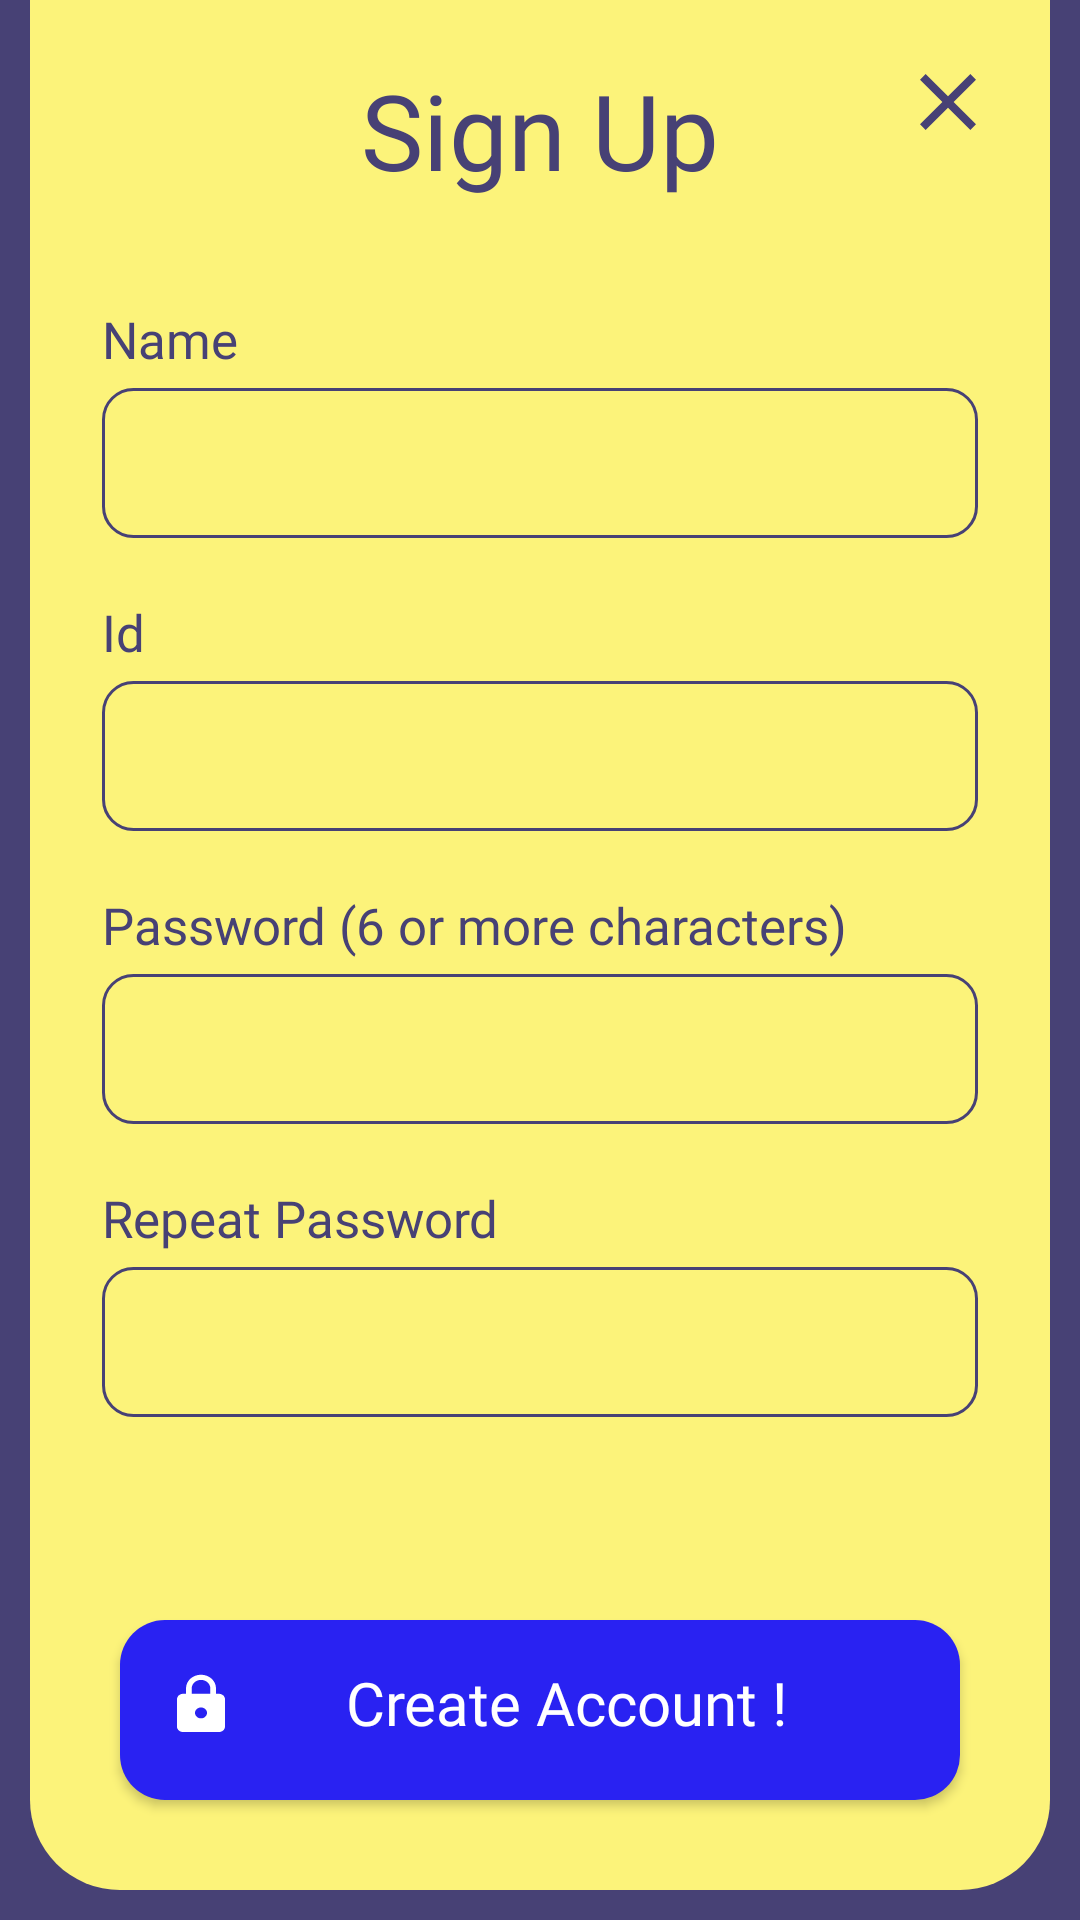

Locate icon controls on the screen. Image size 1080*1920, boxes as (x1, y1, x2, y2).
cancel iv: (920, 74, 976, 130)
